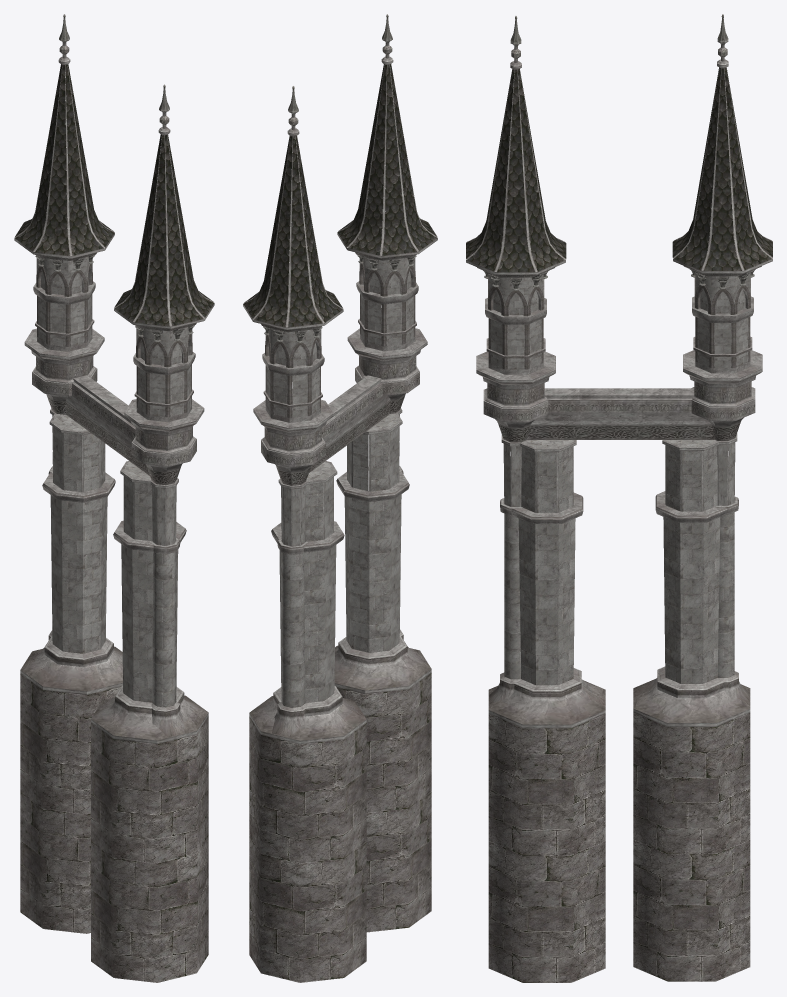
File: eso_ss2_spire1-transformed.glb
The picture shows the model from 3 angles, left to right: view 1: azimuth 30°, elevation 25°; view 2: azimuth 150°, elevation 25°; view 3: azimuth 270°, elevation 25°; orthographic projection. The views are drawn at different scales.
Visible parts, largest first — view 1: default; view 2: default; view 3: default.
Part boxes in pixels (x1,y1,x2,y2): default: (14, 14, 214, 982); default: (243, 14, 437, 982); default: (466, 14, 772, 982).
Size of the model in its own units: 8.04 by 69.59 by 20.53.
5 materials, 5 textured.
